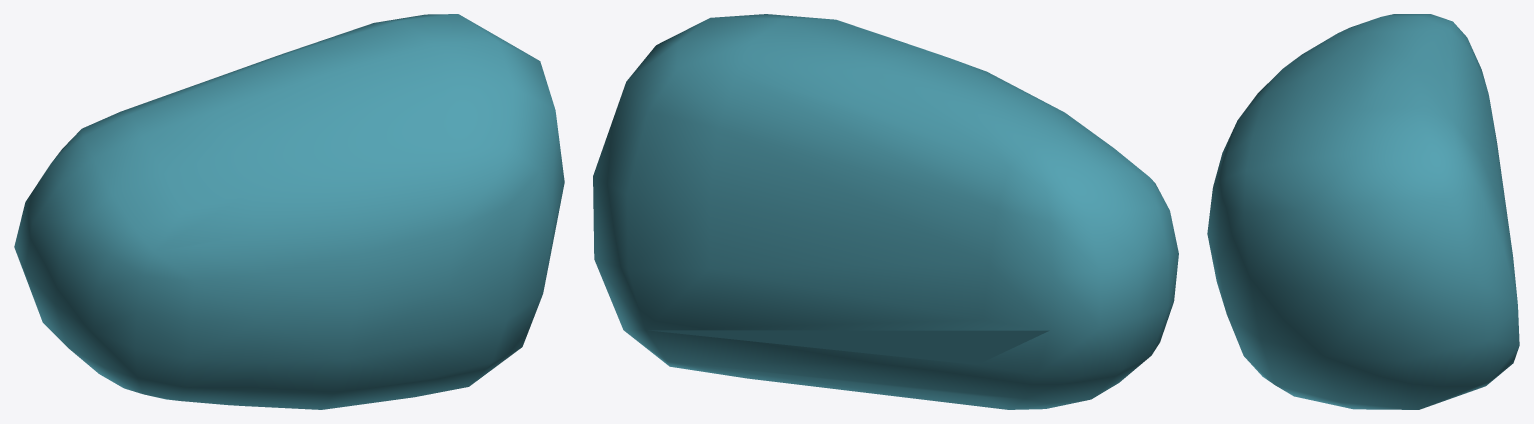
Rendered from COL_Alpha_Surface_046_convex_hull.dae.
3 views of the same model, side by side, from view 1: azimuth 30°, elevation 25°; view 2: azimuth 150°, elevation 25°; view 3: azimuth 270°, elevation 25° (orthographic). The views are drawn at different scales.
Visible parts, largest first — view 1: COL_Alpha_Surface_046_convex_hull; view 2: COL_Alpha_Surface_046_convex_hull; view 3: COL_Alpha_Surface_046_convex_hull.
Boxes of the visible parts, <box> form: COL_Alpha_Surface_046_convex_hull: <box>14,14,564,409</box>; COL_Alpha_Surface_046_convex_hull: <box>593,14,1178,409</box>; COL_Alpha_Surface_046_convex_hull: <box>1207,14,1519,409</box>.
Size of the model in its own units: 3.49 by 2.05 by 2.09.
